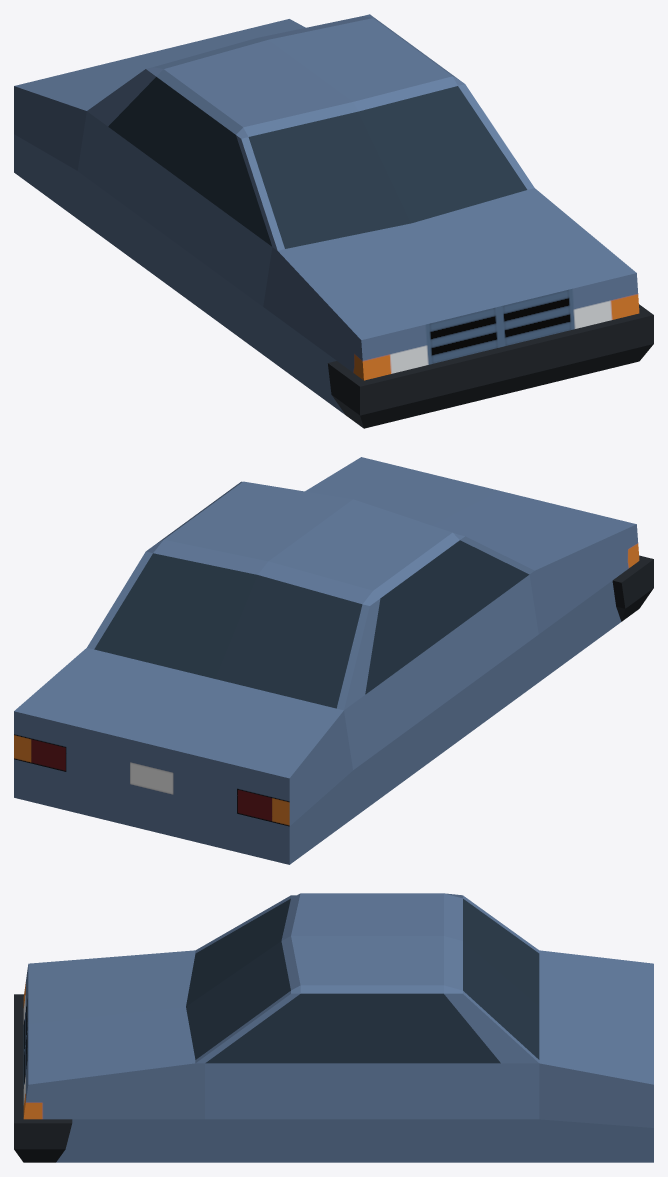
File: lince.glb
The picture shows the model from 3 angles, top to bottom: view 1: azimuth 30°, elevation 25°; view 2: azimuth 150°, elevation 25°; view 3: azimuth 270°, elevation 25°; orthographic projection. The views are drawn at different scales.
Parts seen in each view (by area): view 1: Body, Bumper, Copilot, Boss; view 2: Body, Copilot, Boss, Bumper; view 3: Body, Driver, Passenger, Bumper.
Part boxes in pixels (box(x1,y1,x2,y2)): Body: box(14, 14, 639, 414); Bumper: box(327, 304, 653, 428); Copilot: box(178, 112, 272, 354); Boss: box(114, 81, 203, 292); Body: box(14, 457, 639, 864); Copilot: box(428, 540, 538, 744); Boss: box(381, 563, 453, 790); Bumper: box(612, 555, 653, 621); Body: box(23, 893, 653, 1162); Driver: box(205, 993, 357, 1162); Passenger: box(358, 993, 472, 1162); Bumper: box(14, 994, 72, 1162).
Bounding box in the file's own units: 1.6 × 0.96 × 3.35.
8 materials, 3 textured.
